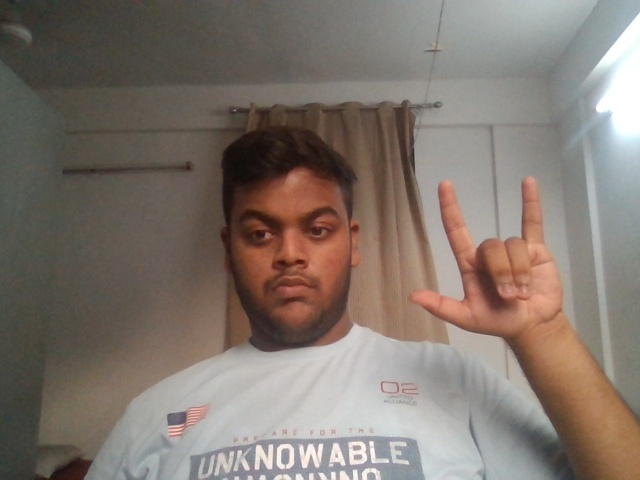I Love You: (395, 153, 596, 366)
